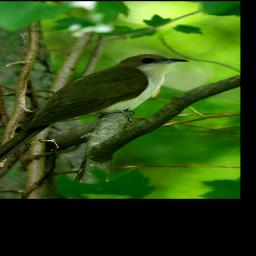Cuckoo: (0, 53, 190, 177)
